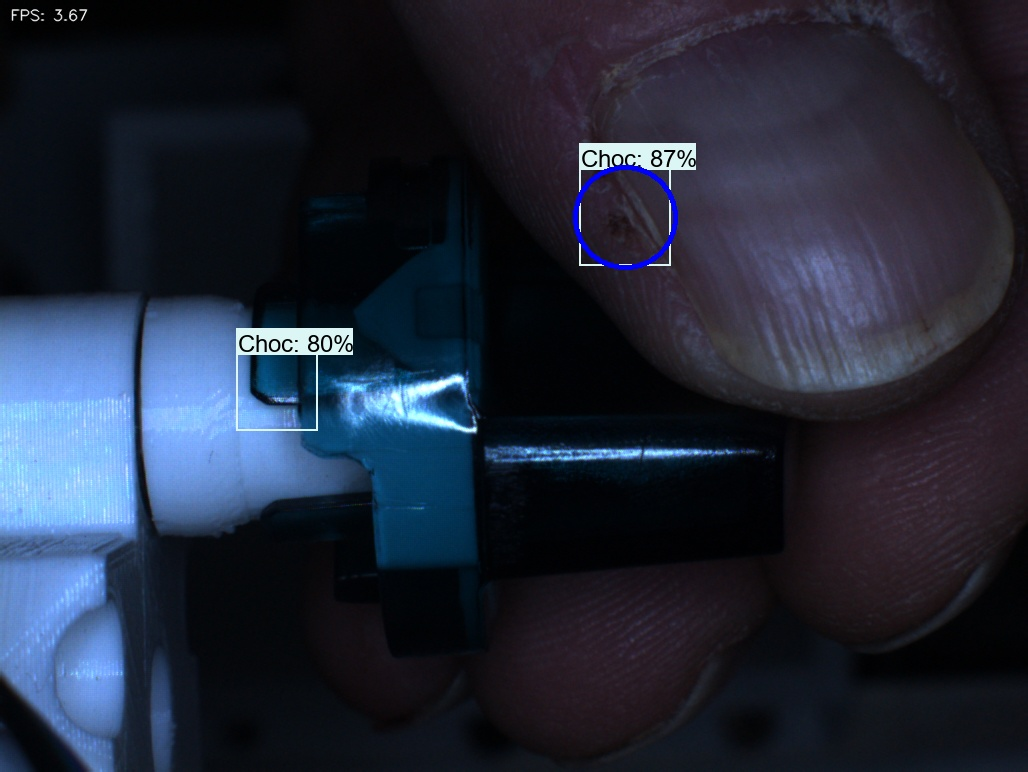DentOk: (335, 270, 397, 349)
